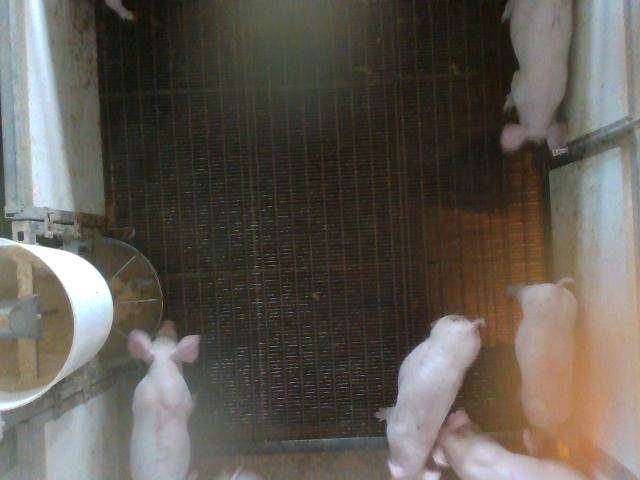pig-3: (128, 321, 200, 479)
pig-4: (511, 279, 579, 456)
